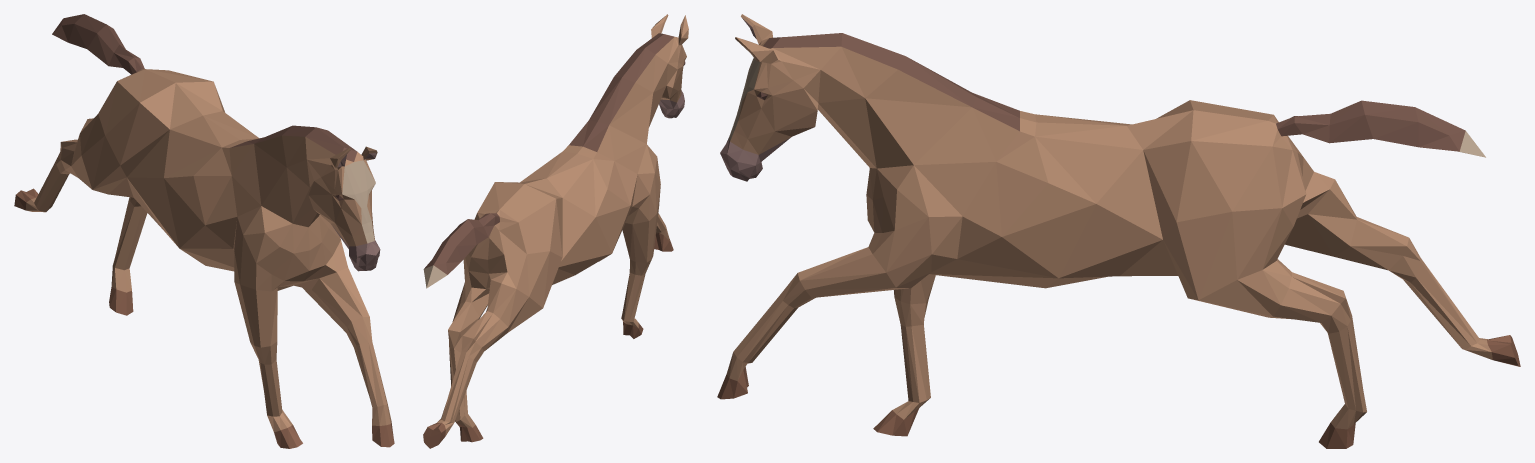
The model's file is Horse.glb.
The picture shows the model from 3 angles, left to right: view 1: azimuth 30°, elevation 25°; view 2: azimuth 150°, elevation 25°; view 3: azimuth 270°, elevation 25°; orthographic projection. The views are drawn at different scales.
Visible parts, largest first — view 1: mesh_0; view 2: mesh_0; view 3: mesh_0.
Part boxes in pixels (box(x1,y1,x2,y2)): mesh_0: box(14, 14, 394, 448); mesh_0: box(423, 14, 688, 448); mesh_0: box(717, 14, 1520, 448).
Bounding box in the file's own units: 60.66 × 179 × 309.
